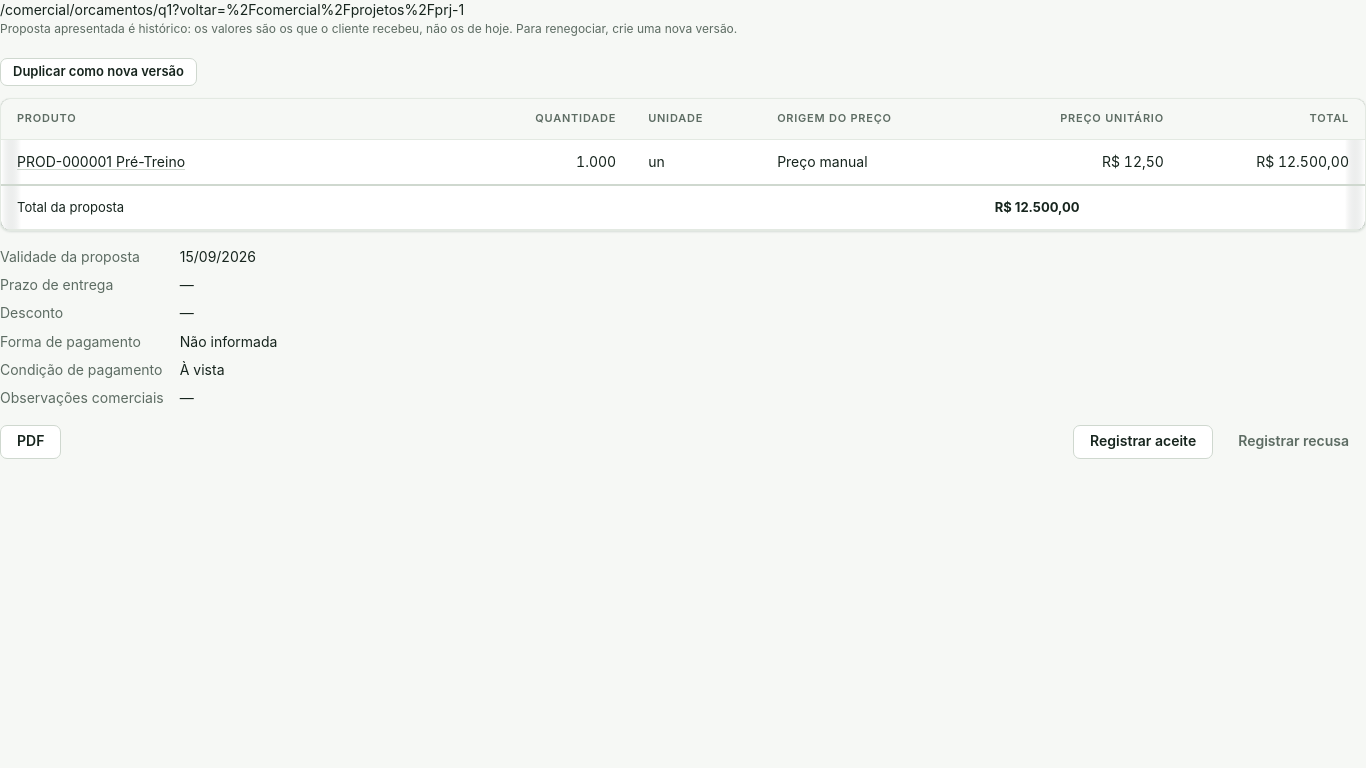
Test case: QUOTE-DUPLICATE-01 — Duplicar como nova versão › cada abertura começa sem escolha
Click the button "Duplicar como nova versão": (98, 72) [0,58,197,86]
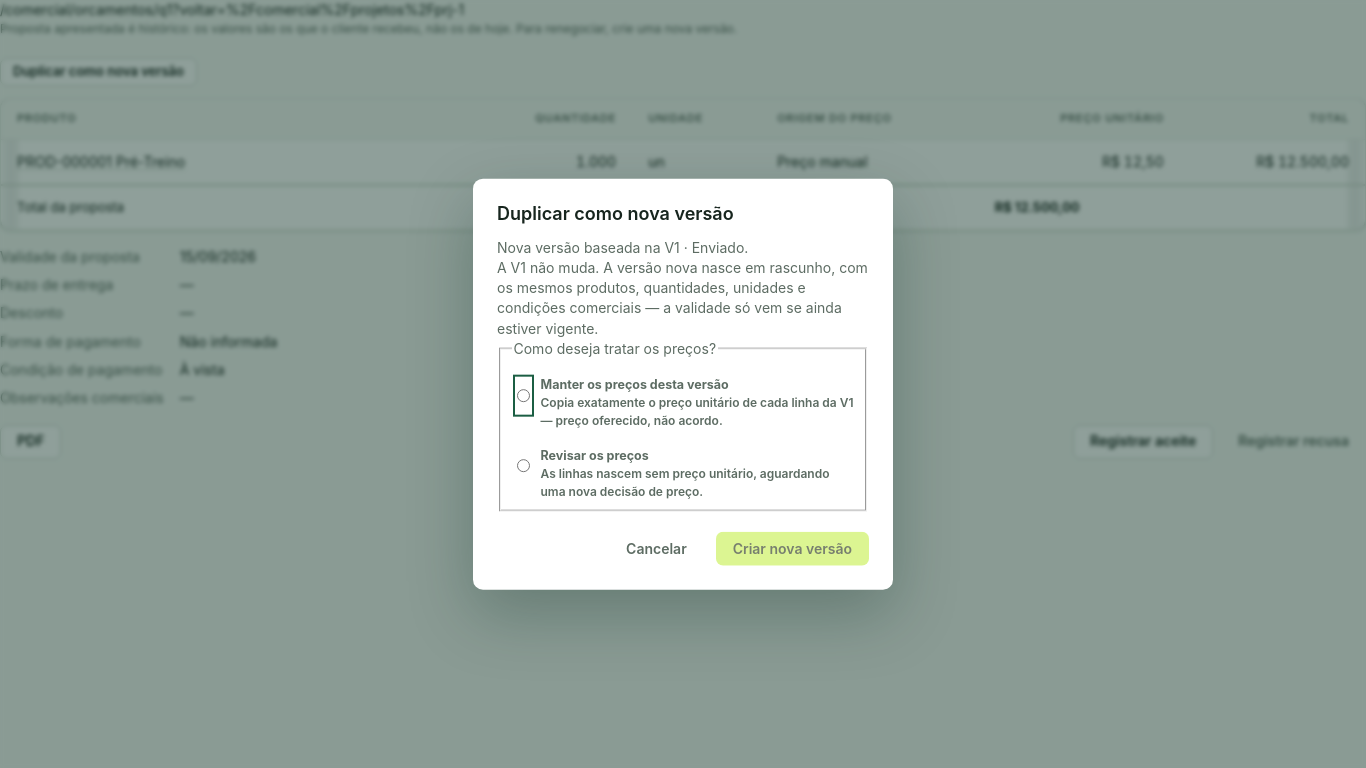
Click the radio button labelled "Revisar os preços": (523, 466) [516,449,530,483]
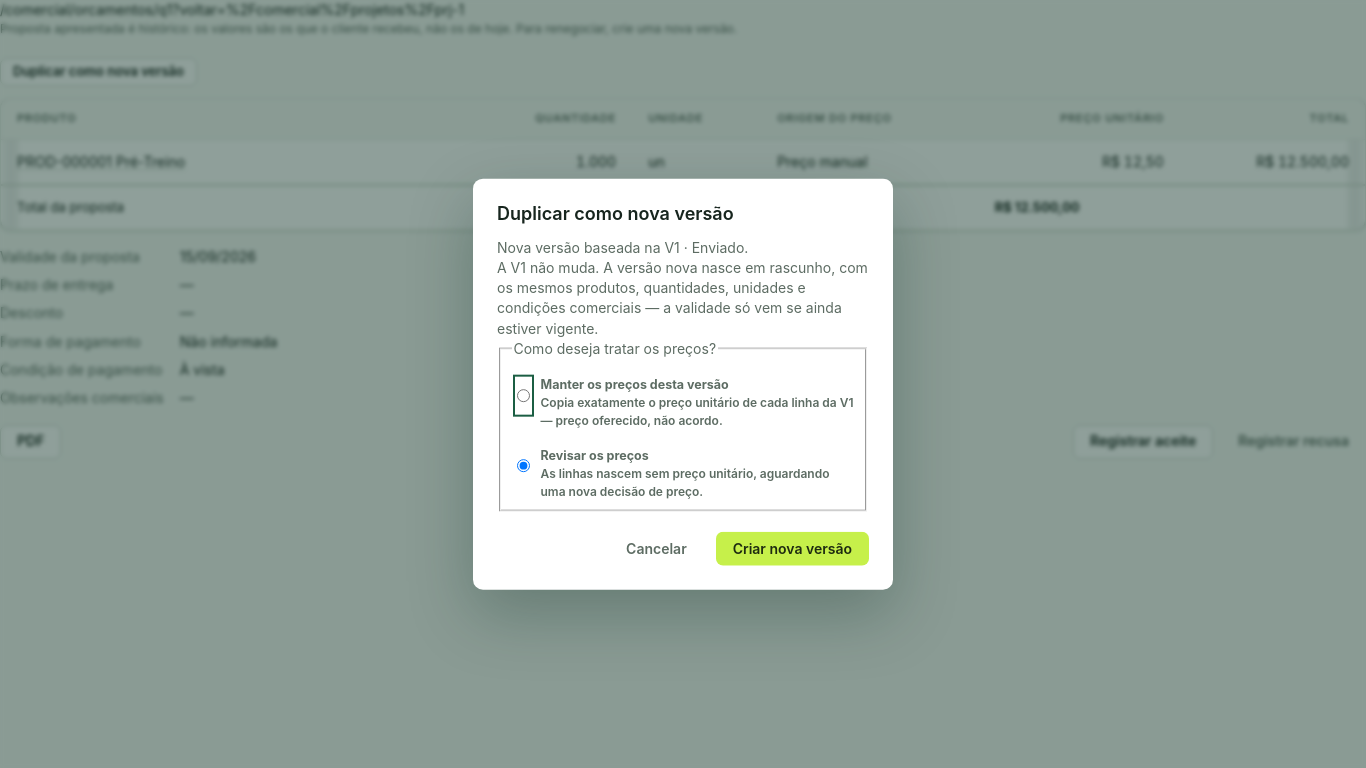
Click the button "Cancelar": (656, 548) [609,531,704,565]
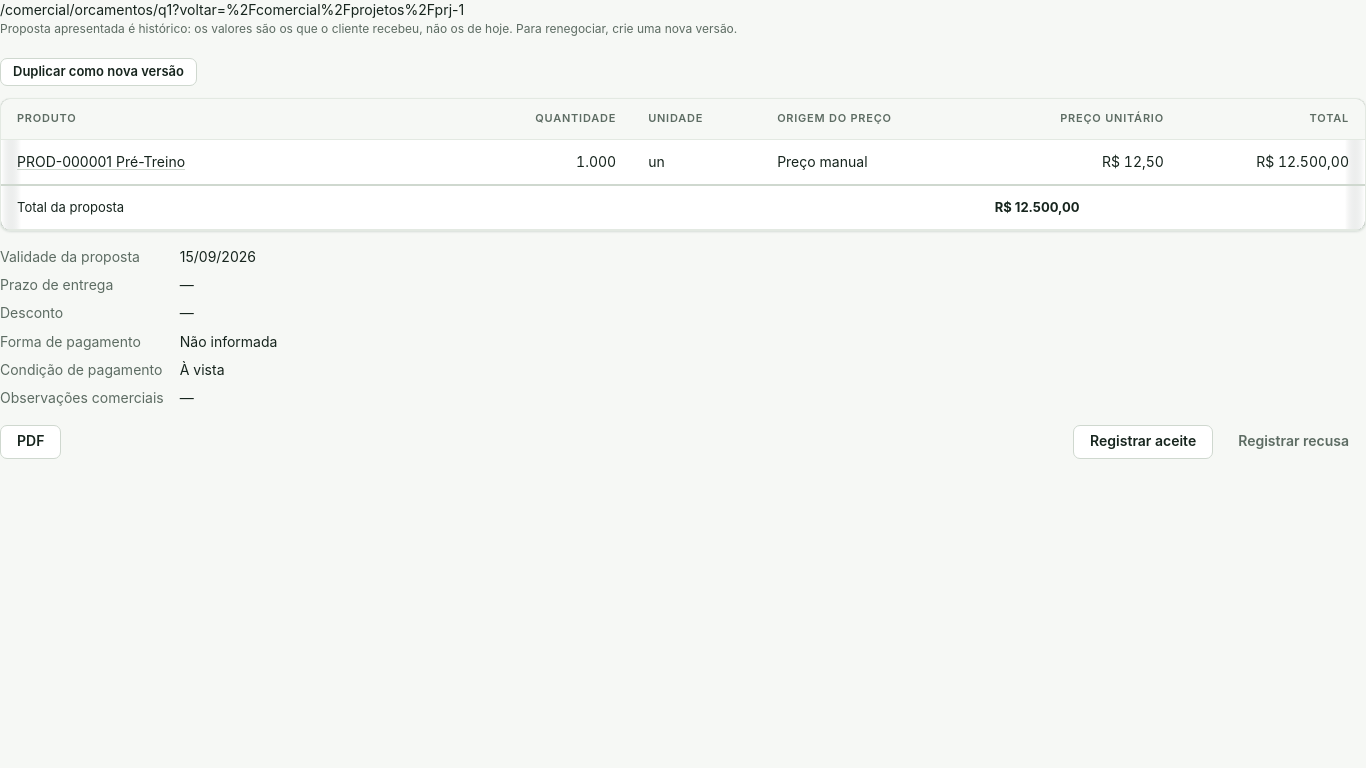
Click the button "Duplicar como nova versão": (98, 72) [0,58,197,86]
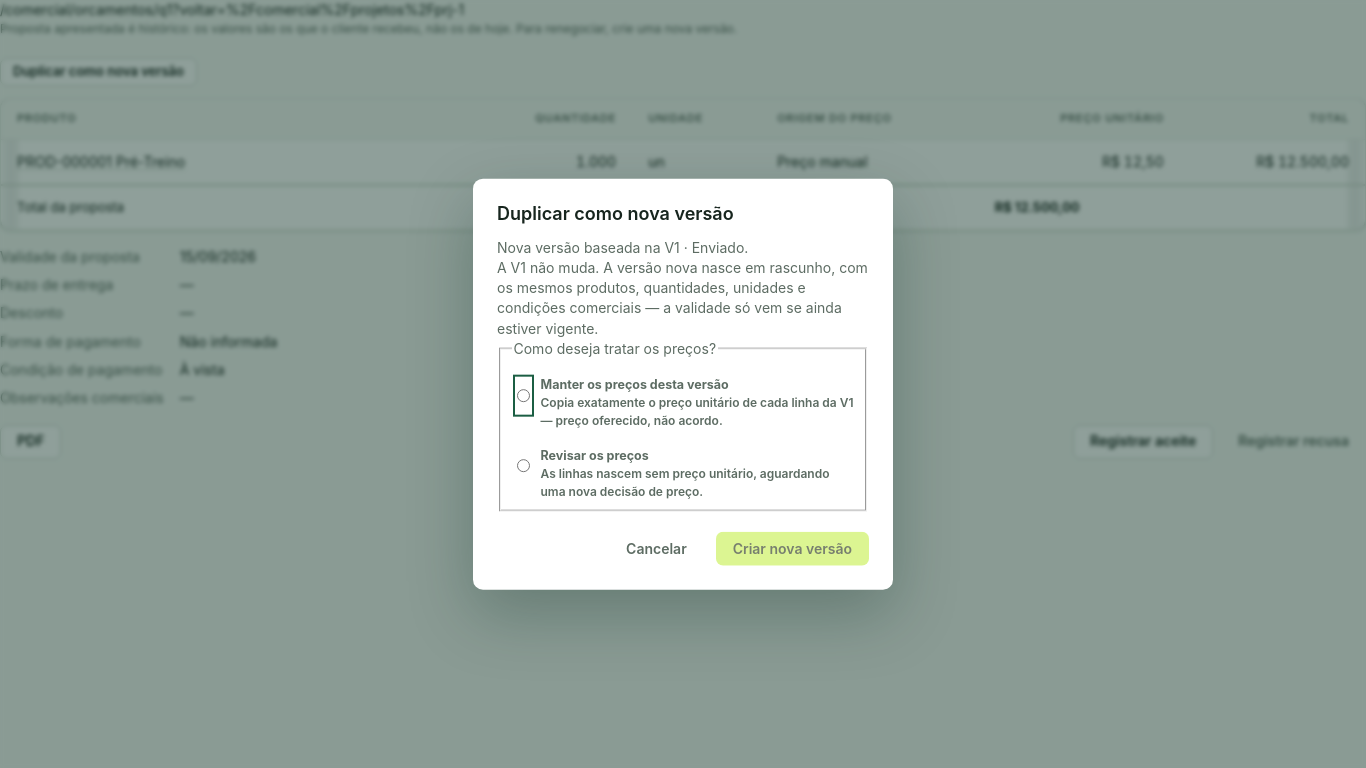
Check: the radio button labelled "Revisar os preços" is not checked, box [516,449,530,483]
Check: the button "Criar nova versão" is disabled, box [716,531,869,565]
